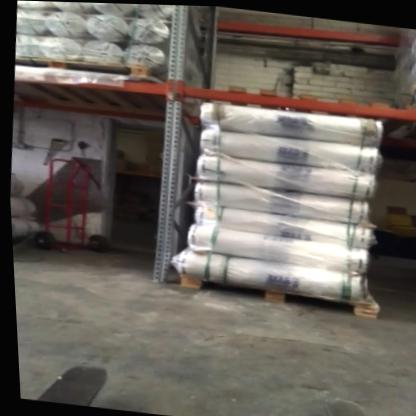vertical_damage: (137, 243, 178, 288)
